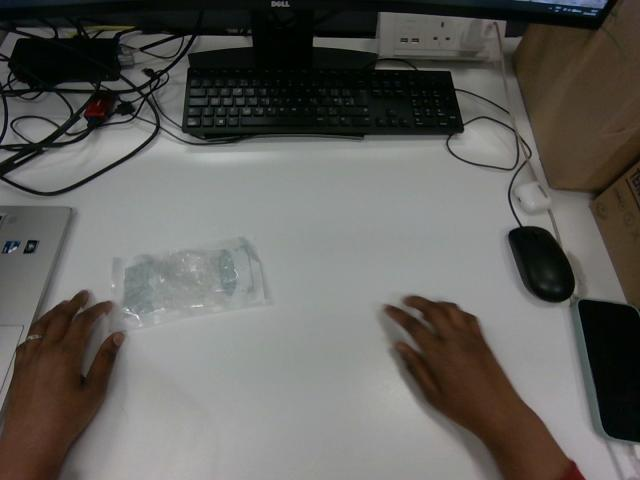gallipot: (112, 238, 266, 329)
